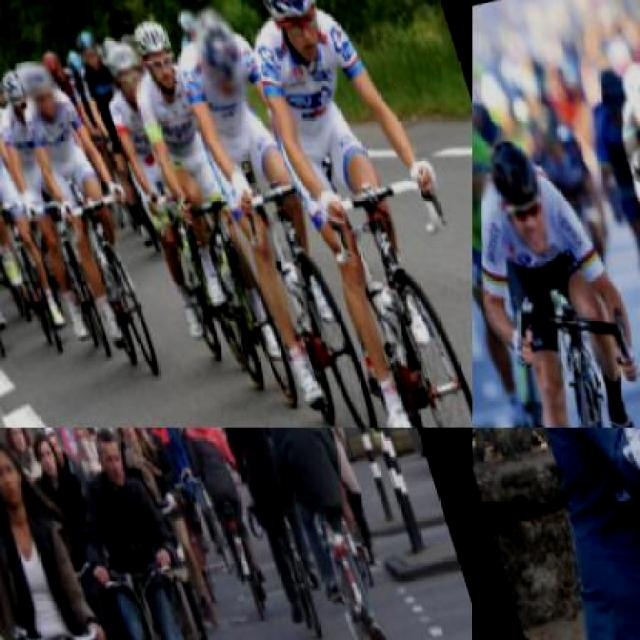With Helmet: (476, 124, 564, 262), (180, 0, 258, 108), (244, 0, 344, 68), (121, 4, 188, 99), (603, 37, 639, 158), (13, 51, 69, 128), (96, 28, 152, 98), (472, 100, 500, 208), (72, 18, 108, 77), (0, 60, 34, 120)
Without Helmet: (80, 428, 135, 494), (0, 428, 37, 514)
